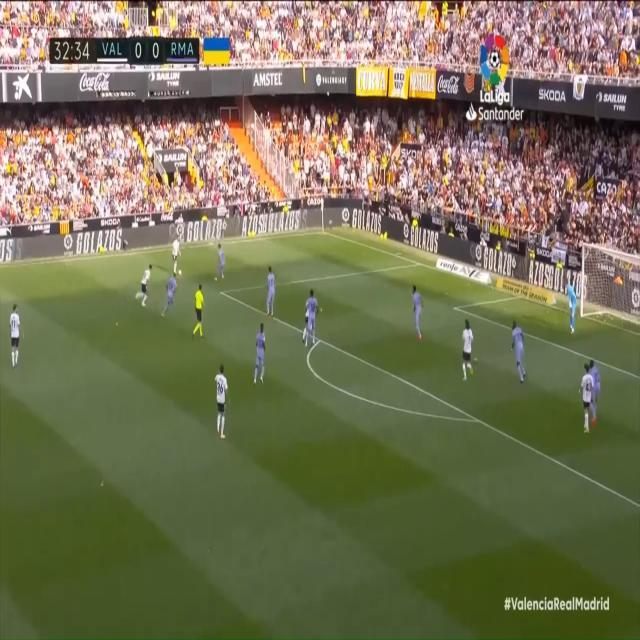ball: (178, 271, 184, 279)
goalkeeper: (560, 273, 583, 337)
player: (585, 354, 603, 432), (576, 362, 594, 439), (214, 364, 231, 441), (7, 300, 25, 372), (509, 319, 527, 391), (458, 316, 475, 386), (160, 269, 179, 325), (253, 321, 268, 389), (138, 255, 155, 313), (410, 283, 425, 341), (305, 287, 319, 347), (264, 259, 277, 322), (171, 233, 184, 280), (214, 237, 226, 285)
referee: (193, 281, 210, 345)
